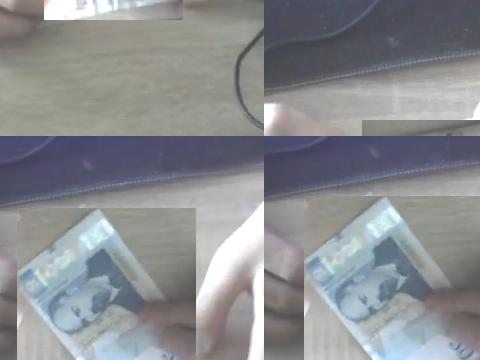20leva: (302, 196, 480, 360), (304, 196, 480, 360), (15, 208, 197, 360), (17, 208, 183, 360)
